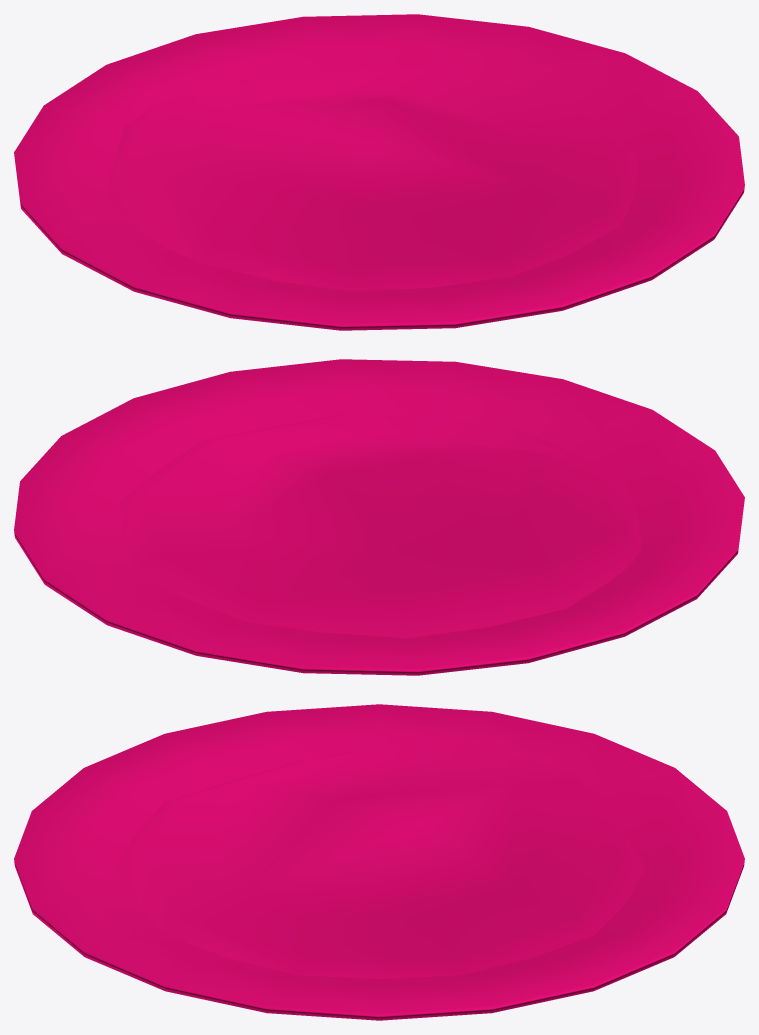
The model's file is Plate_Food_01_Lod1.fbx.
3 views of the same model, one above another, from view 1: azimuth 30°, elevation 25°; view 2: azimuth 150°, elevation 25°; view 3: azimuth 270°, elevation 25° (orthographic).
Visible parts, largest first — view 1: Plate_Food_01_Lod1; view 2: Plate_Food_01_Lod1; view 3: Plate_Food_01_Lod1.
Part boxes in pixels (<box>): Plate_Food_01_Lod1: <box>14,14,744,330</box>; Plate_Food_01_Lod1: <box>14,359,744,675</box>; Plate_Food_01_Lod1: <box>14,704,744,1020</box>.
Bounding box in the file's own units: 28.93 × 4.42 × 28.93.
